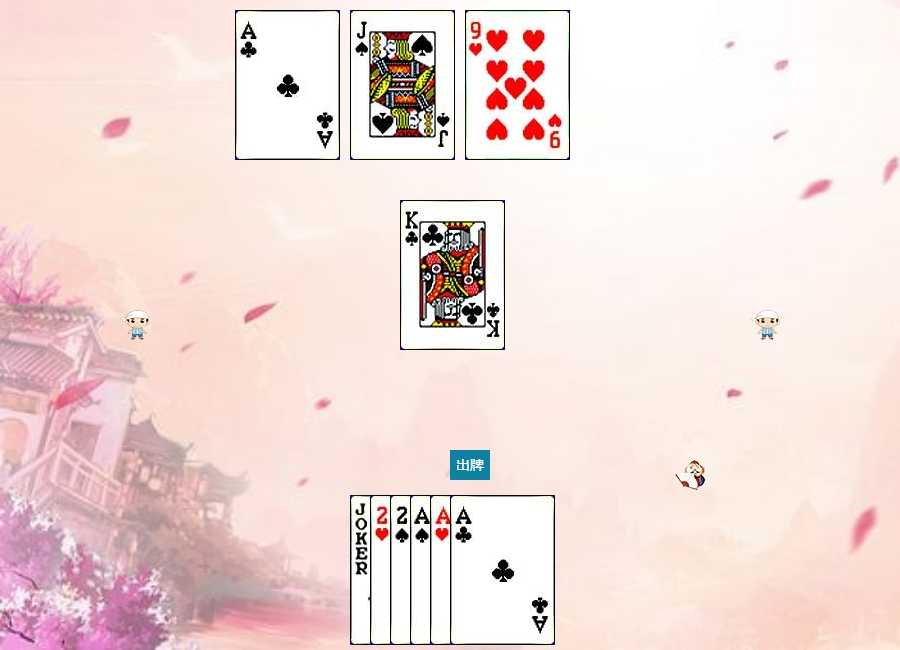11~4: (350, 10, 455, 160)
13~2: (400, 200, 505, 350)
14~2: (235, 10, 340, 160), (450, 495, 555, 645)
14~3: (430, 495, 535, 645)
14~4: (410, 495, 515, 645)
15~3: (370, 495, 475, 645)
15~4: (390, 495, 495, 645)
17~3: (350, 495, 455, 645)
9~3: (465, 10, 570, 160)
